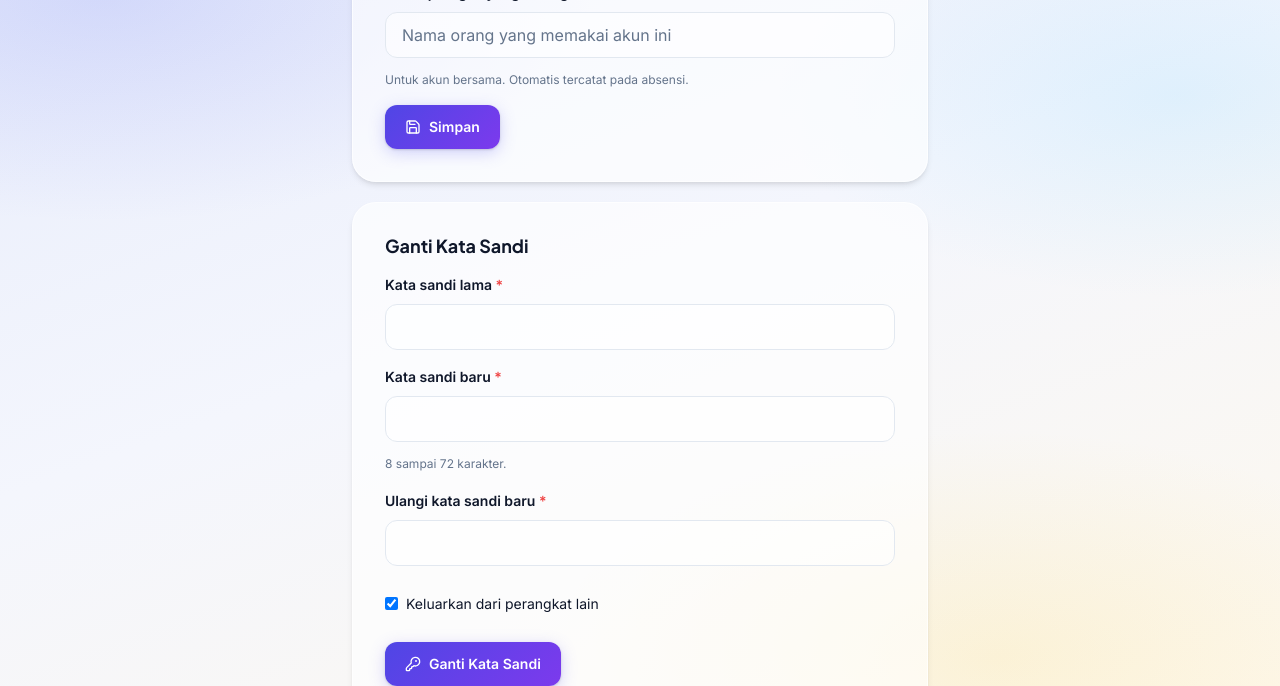
Test: profil staf › menolak sandi baru pendek tanpa memanggil server
(page scrolled)
Type "lama" into the password field labelled "Kata sandi lama".
click(640, 327); type("lama")  # box [385,304,895,350]
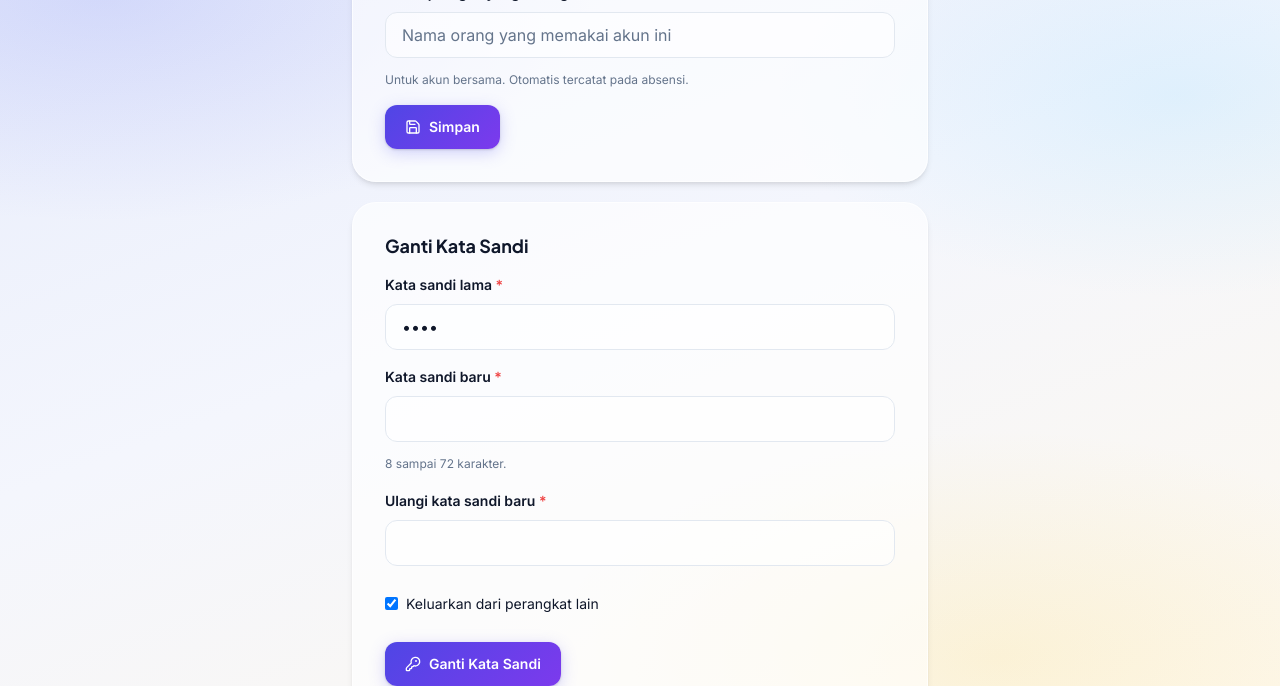
Type "pendek" into the password field labelled "Kata sandi baru".
click(640, 419); type("pendek")  # box [385,396,895,442]
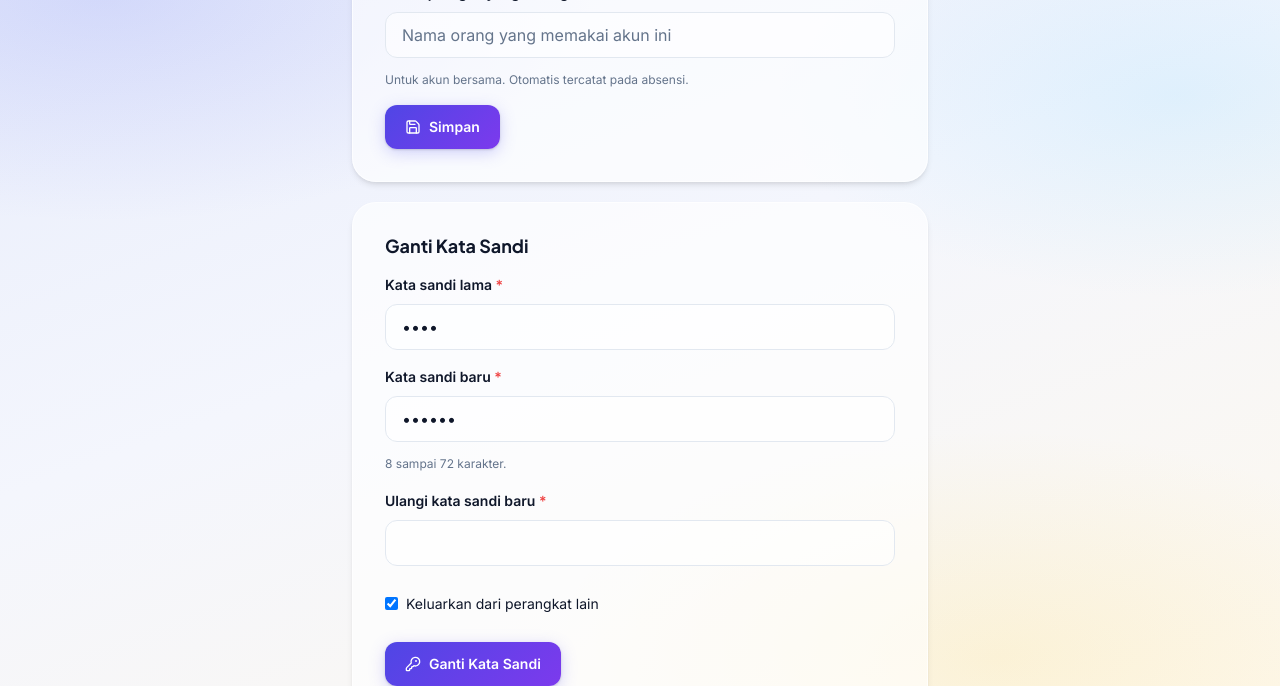
Type "pendek" into the password field labelled "Ulangi kata sandi baru".
click(640, 543); type("pendek")  # box [385,520,895,566]
(page scrolled)
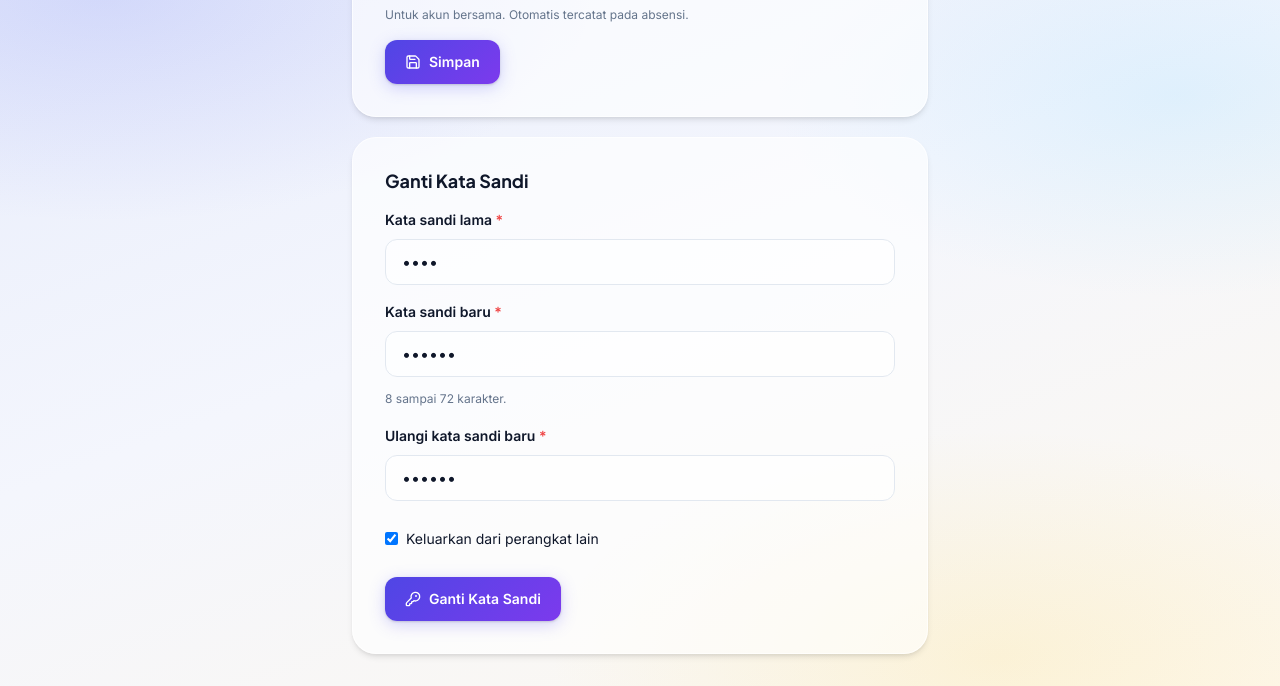
Submit the form "Ganti Kata Sandi", box [352,137,928,654]
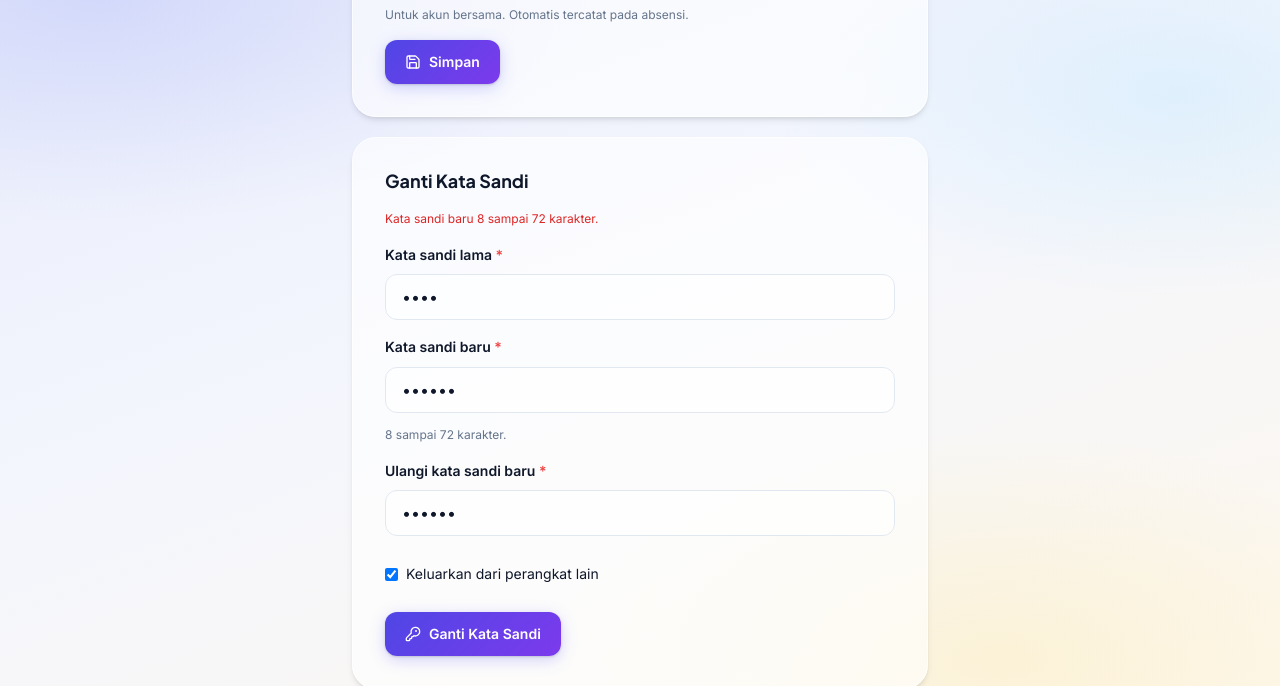
Now the text "Kata sandi baru 8 sampai 72 karakter." is shown, box [385,211,598,226]
